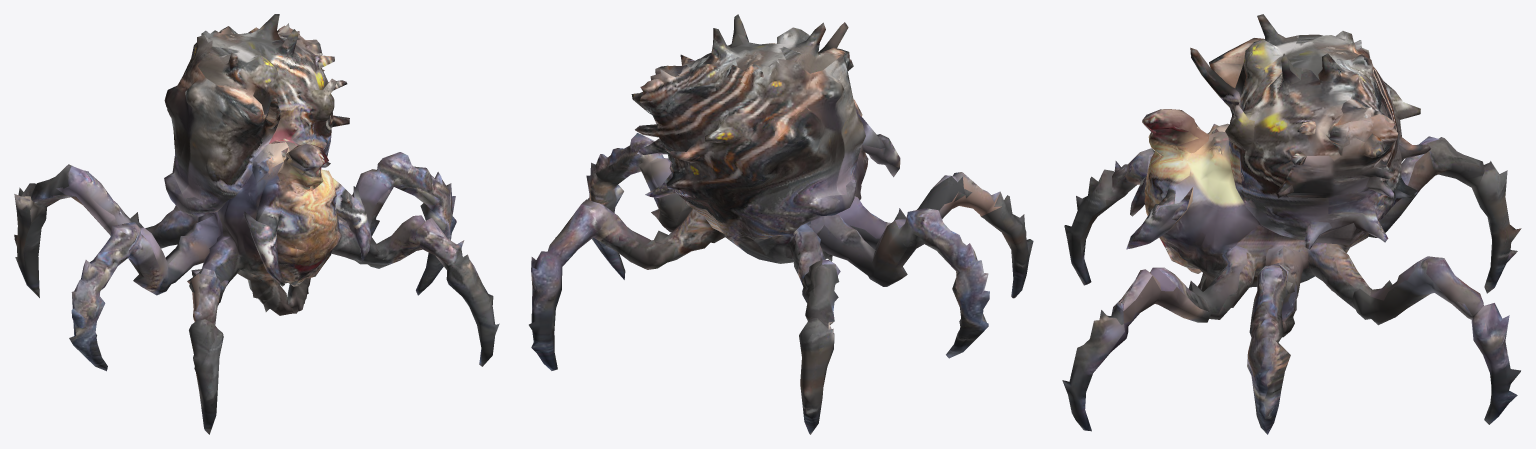
The model's file is yaghra-monstrosity-overview-v1.glb.
3 views of the same model, side by side, from view 1: azimuth 30°, elevation 25°; view 2: azimuth 150°, elevation 25°; view 3: azimuth 270°, elevation 25° (orthographic). The views are drawn at different scales.
Visible parts, largest first — view 1: yaghra-monstrosity; view 2: yaghra-monstrosity; view 3: yaghra-monstrosity.
Boxes of the visible parts, bbox=[...] form: yaghra-monstrosity: bbox=[14, 14, 499, 434]; yaghra-monstrosity: bbox=[529, 14, 1033, 434]; yaghra-monstrosity: bbox=[1062, 14, 1521, 434].
Bounding box in the file's own units: 2 × 1.47 × 1.86.
1 material, 1 textured.
